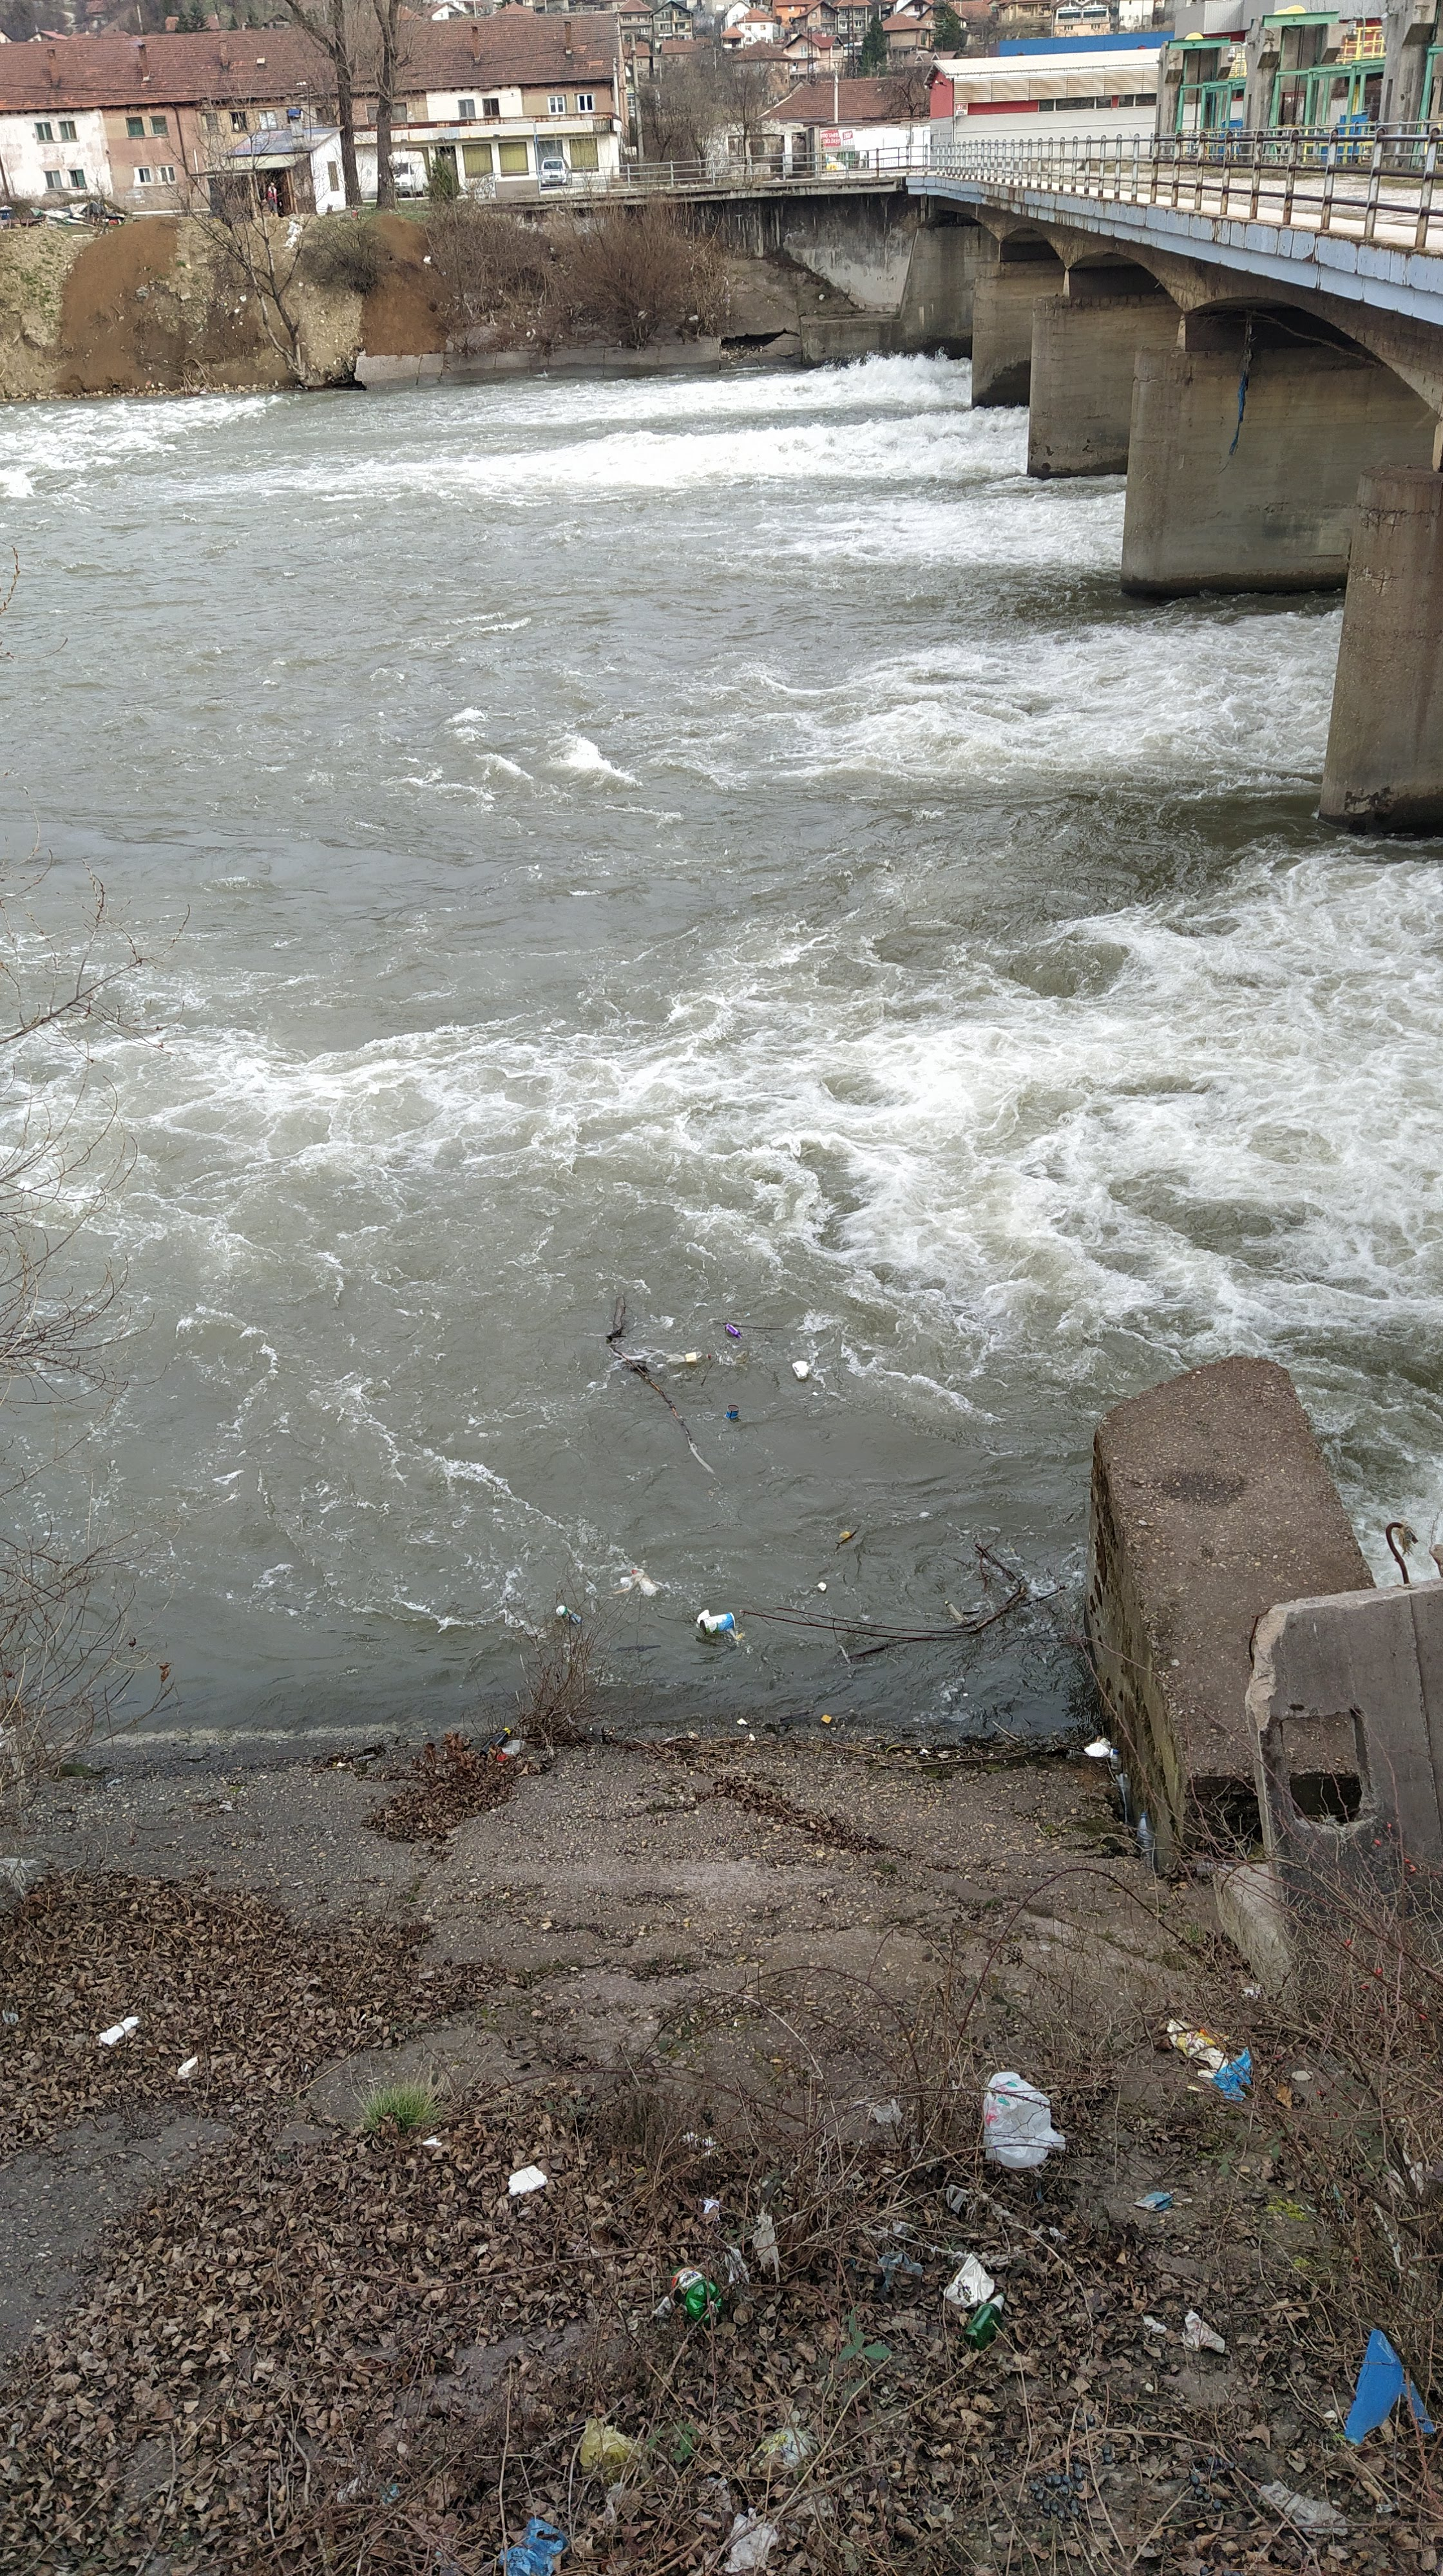Plastic Bottle: (632, 1569, 655, 1596), (666, 1352, 710, 1364), (944, 1599, 965, 1622), (556, 1605, 581, 1624), (724, 1323, 738, 1336)
